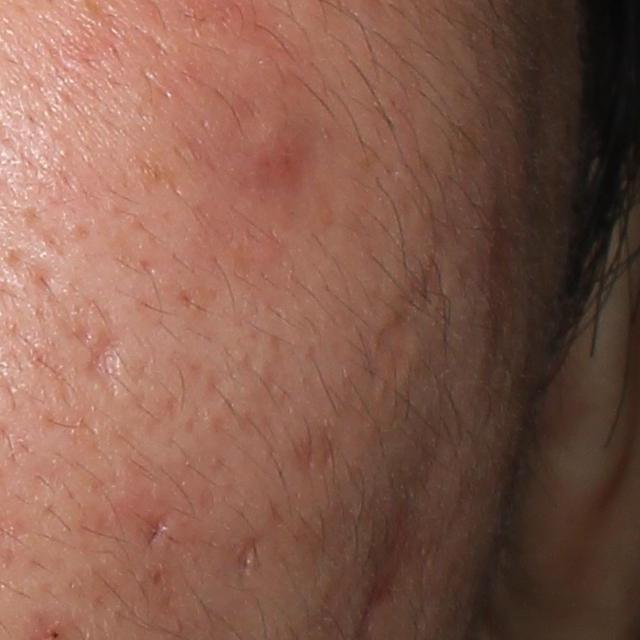atrophic_scar: (362, 245, 452, 415), (72, 301, 133, 398), (228, 502, 290, 583), (134, 510, 173, 554)
